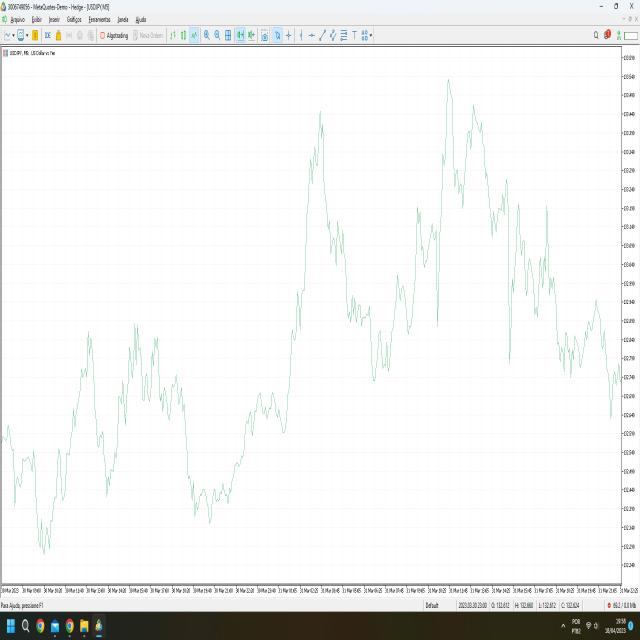bandeira_alta: (226, 350, 286, 497)
bandeira_baixa: (342, 213, 375, 330)
oco_inv: (176, 435, 246, 537), (30, 480, 57, 570)
